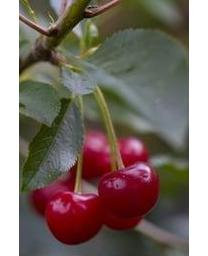cherry: (99, 162, 160, 218), (45, 190, 106, 245)
